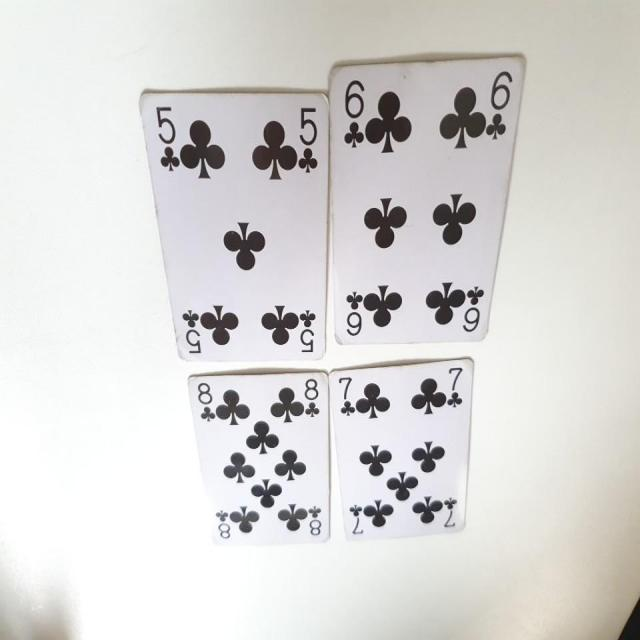5 Trefoils: (138, 84, 331, 361)
6 Trefoils: (328, 51, 528, 347)
7 Trefoils: (328, 354, 475, 544)
8 Trefoils: (187, 370, 332, 546)
